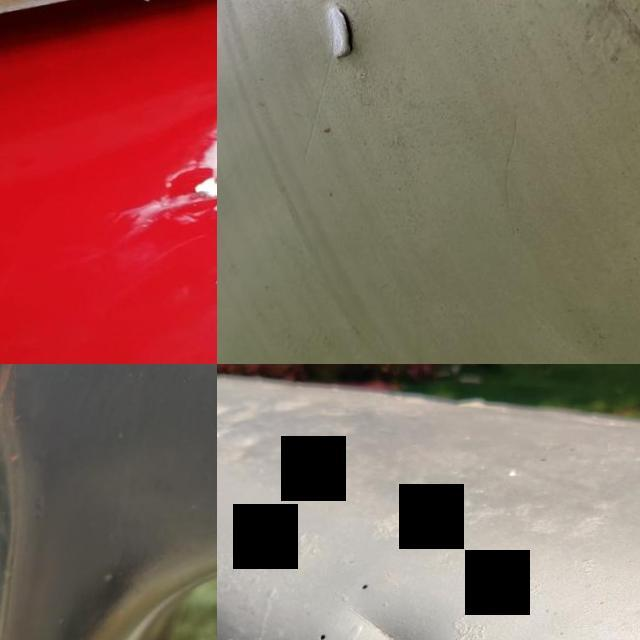Crack: (117, 83, 217, 238), (311, 0, 374, 70)
Dent: (332, 570, 469, 640)
